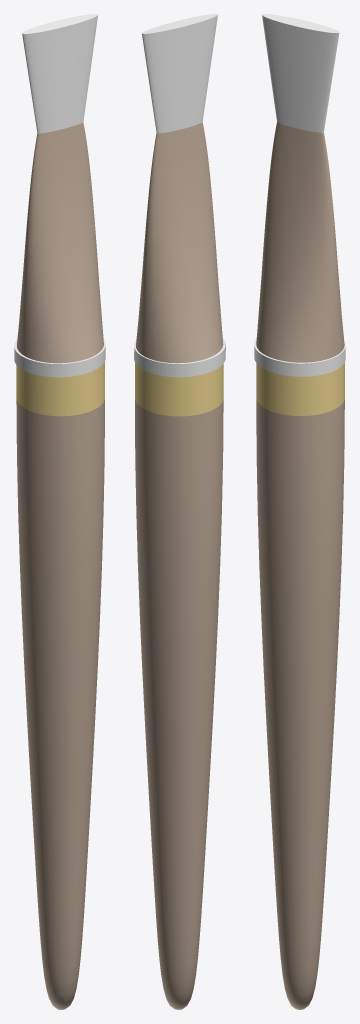
File: Brush_Wide.fbx
3 views of the same model, side by side, from view 1: azimuth 30°, elevation 25°; view 2: azimuth 210°, elevation 25°; view 3: azimuth 330°, elevation 25° (orthographic).
Visible parts, largest first — view 1: Group6, Group1, Tip, Group5, Group3; view 2: Group6, Group1, Tip, Group5, Group3; view 3: Group6, Group1, Tip, Group5, Group3.
Part boxes in pixels (<box>): Group6: <box>16,398,104,1009</box>; Group1: <box>17,122,103,363</box>; Tip: <box>22,14,97,133</box>; Group5: <box>16,362,104,416</box>; Group3: <box>14,339,105,377</box>; Group6: <box>135,399,223,1009</box>; Group1: <box>136,122,223,363</box>; Tip: <box>142,14,217,133</box>; Group5: <box>135,363,223,416</box>; Group3: <box>134,338,225,377</box>; Group6: <box>256,398,344,1009</box>; Group1: <box>256,122,344,362</box>; Tip: <box>262,14,339,132</box>; Group5: <box>256,362,344,415</box>; Group3: <box>254,338,345,376</box>.
Bounding box in the file's own units: 0.0188 × 0.2214 × 0.0181.
